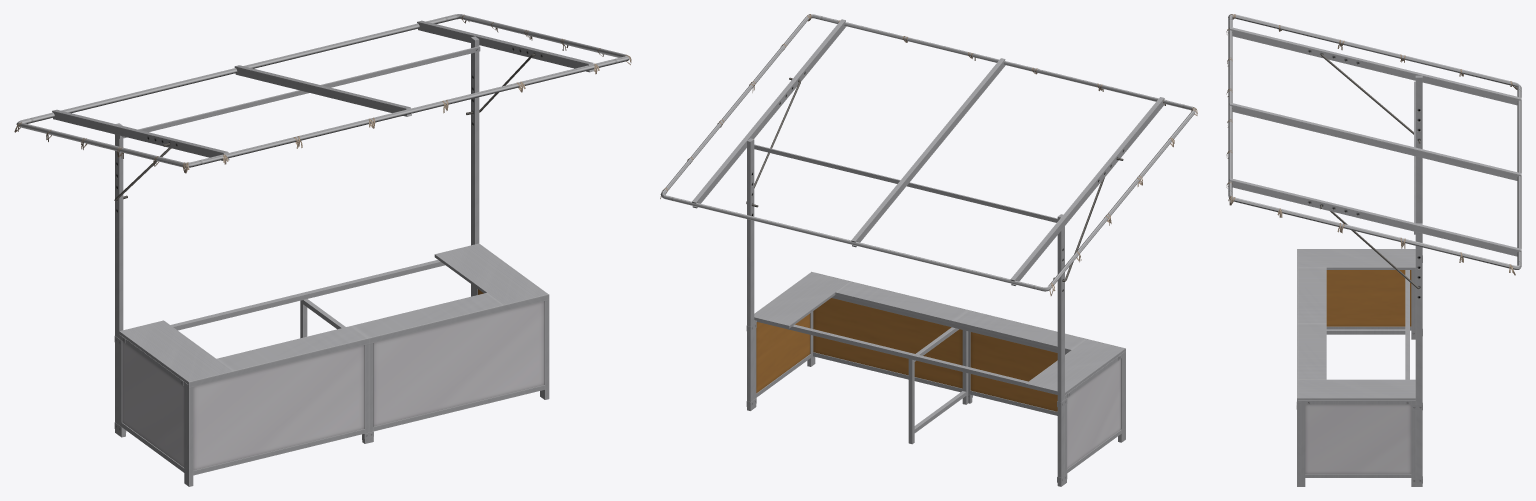
The model's file is jsf_2P_s03_c04_t04.fbx.
The picture shows the model from 3 angles, left to right: view 1: azimuth 30°, elevation 25°; view 2: azimuth 150°, elevation 25°; view 3: azimuth 270°, elevation 25°; orthographic projection. The views are drawn at different scales.
Visible parts, largest first — view 1: Base_s03_c04, Pillar2_s03, Table_2P_s03_t04, Rope_2P_s03; view 2: Base_s03_c04, Pillar2_s03, Table_2P_s03_t04, Support; view 3: Pillar2_s03, Base_s03_c04, Table_2P_s03_t04, Rope_2P_s03, Support.
Boxes of the visible parts, x1,y1,x2,y2 form: Base_s03_c04: (114, 287, 549, 486); Pillar2_s03: (16, 14, 629, 435); Table_2P_s03_t04: (119, 243, 547, 385); Rope_2P_s03: (14, 14, 631, 173); Base_s03_c04: (746, 271, 1125, 483); Pillar2_s03: (660, 14, 1196, 486); Table_2P_s03_t04: (754, 272, 1125, 397); Support: (908, 327, 968, 444); Pillar2_s03: (1228, 14, 1521, 486); Base_s03_c04: (1296, 249, 1422, 486); Table_2P_s03_t04: (1298, 249, 1415, 404); Rope_2P_s03: (1226, 14, 1517, 275); Support: (1326, 329, 1405, 334).
Size of the model in its own units: 316 by 244 by 211.
